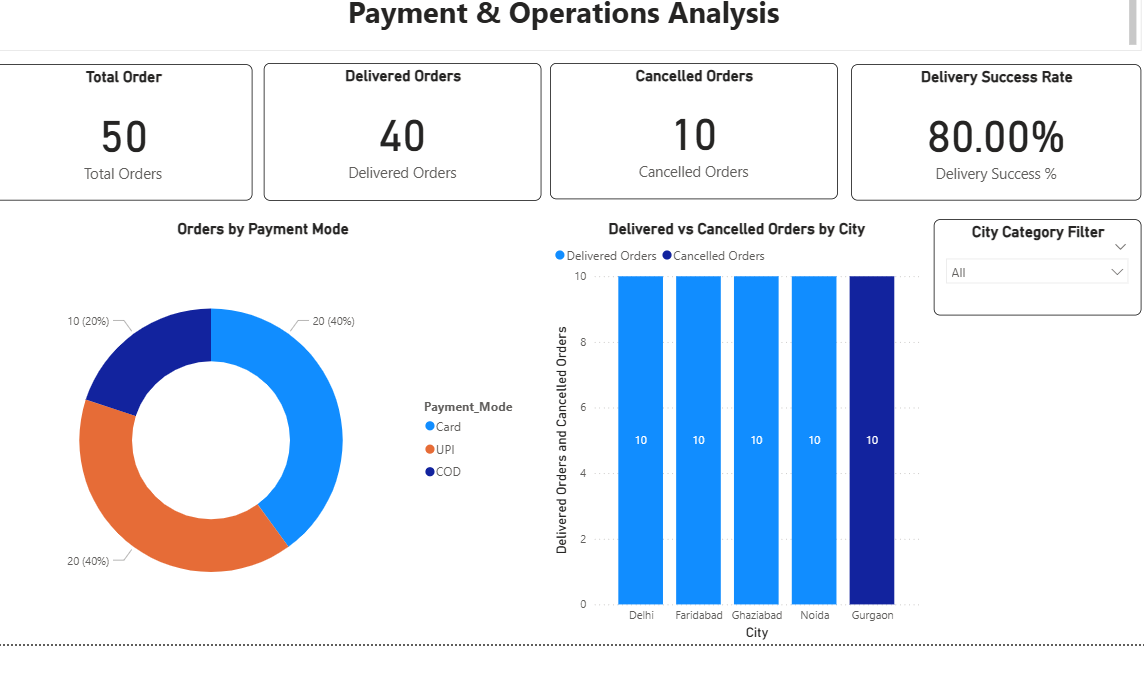

The dashboard page shown, as its layout file describes it:
{"tool":"powerbi","page":{"name":"Payment & Operations","canvas":[1280,720],"ordinal":2},"visuals":[{"type":"textbox","box":[9.6,0,1259.7,68.6],"z":0},{"type":"card","title":"Total Order","fields":{"Values":["Blinkit_Sales_Data.Total Orders"]},"box":[9.6,83.7,284,149.6],"z":1},{"type":"card","title":"Delivered Orders","fields":{"Values":["Blinkit_Sales_Data.Delivered Orders"]},"box":[306,82.3,304.6,150.9],"z":2},{"type":"card","title":"Cancelled Orders","fields":{"Values":["Blinkit_Sales_Data.Cancelled Orders"]},"box":[620.2,82.3,315.6,149.6],"z":3},{"type":"card","title":"Delivery Success Rate","fields":{"Values":["Blinkit_Sales_Data.Delivery Success %"]},"box":[950.9,83.7,318.4,149.6],"z":4},{"type":"donutChart","title":"Orders by Payment Mode","fields":{"Category":["Blinkit_Sales_Data.Payment_Mode"],"Y":["Blinkit_Sales_Data.Total Orders"]},"box":[9.6,253.9,591.4,466.6],"z":5},{"type":"columnChart","title":"Delivered vs Cancelled Orders by City","fields":{"Category":["Blinkit_Sales_Data.City"],"Y":["Blinkit_Sales_Data.Delivered Orders","Blinkit_Sales_Data.Cancelled Orders"]},"box":[620.2,253.9,410.3,466.6],"z":6},{"type":"slicer","title":"City Category Filter","fields":{"Values":["Blinkit_Sales_Data.City","Blinkit_Sales_Data.Order_Date","Blinkit_Sales_Data.Product_Category"]},"box":[1041.5,253.9,227.8,105.7],"z":7}]}

Visuals, with their boxes on the page's 1280x720 design canvas (x1, y1, x2, y2). These are canvas units, not pixel positions in the 1144x692 screenshot, which may show the page scaled, cropped or inside an application window:
textbox: [left=10, top=0, right=1269, bottom=69]
"Total Order" card: [left=10, top=84, right=294, bottom=233]
"Delivered Orders" card: [left=306, top=82, right=611, bottom=233]
"Cancelled Orders" card: [left=620, top=82, right=936, bottom=232]
"Delivery Success Rate" card: [left=951, top=84, right=1269, bottom=233]
"Orders by Payment Mode" donutChart: [left=10, top=254, right=601, bottom=720]
"Delivered vs Cancelled Orders by City" columnChart: [left=620, top=254, right=1030, bottom=720]
"City Category Filter" slicer: [left=1042, top=254, right=1269, bottom=360]
